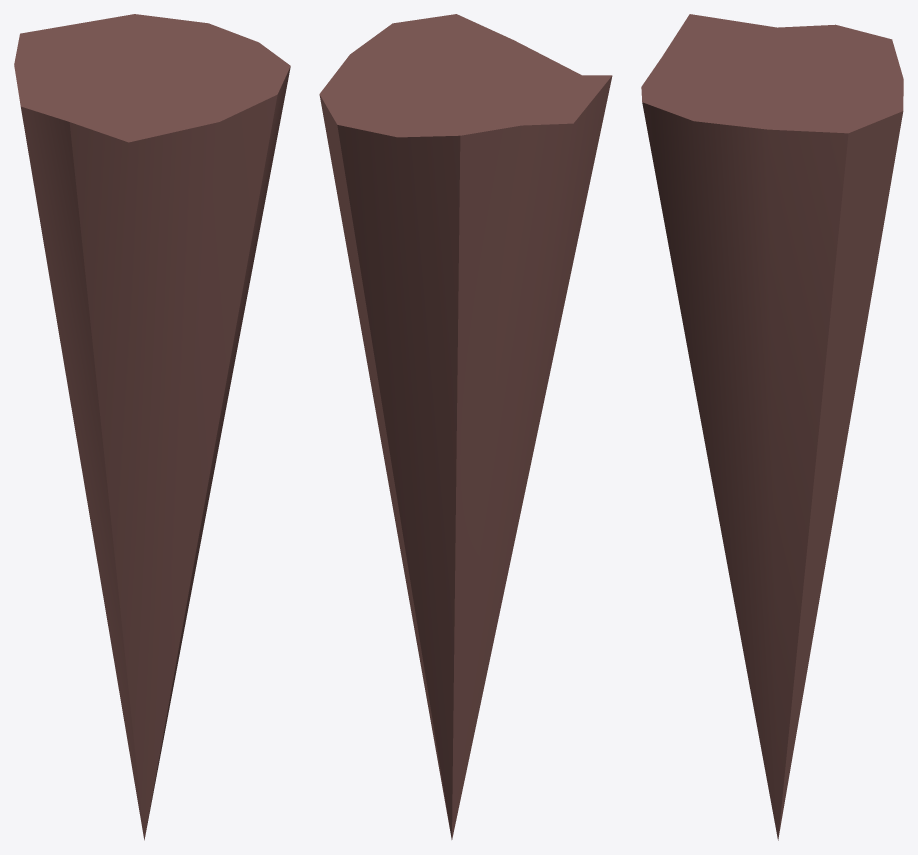
The model's file is stalactite_01.glb.
3 renders of one model, left to right at view 1: azimuth 30°, elevation 25°; view 2: azimuth 150°, elevation 25°; view 3: azimuth 270°, elevation 25°, orthographic. The views are drawn at different scales.
Parts seen in each view (by area): view 1: stalactite_01; view 2: stalactite_01; view 3: stalactite_01.
Boxes of the visible parts, x1,y1,x2,y2 form: stalactite_01: (14,14,290,840); stalactite_01: (319,14,612,839); stalactite_01: (641,14,903,840).
Bounding box in the file's own units: 1.75 × 5.59 × 1.72.
